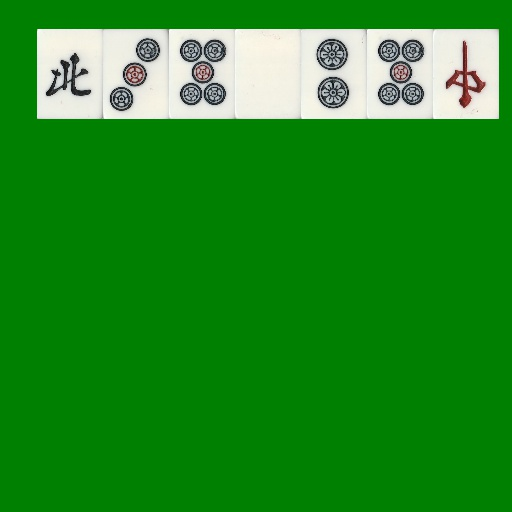2p: (301, 29, 367, 119)
3p: (103, 29, 169, 119)
5p: (169, 29, 235, 119), (367, 29, 433, 119)
north: (37, 29, 103, 119)
tyun: (433, 29, 499, 119)
white: (235, 29, 301, 119)
